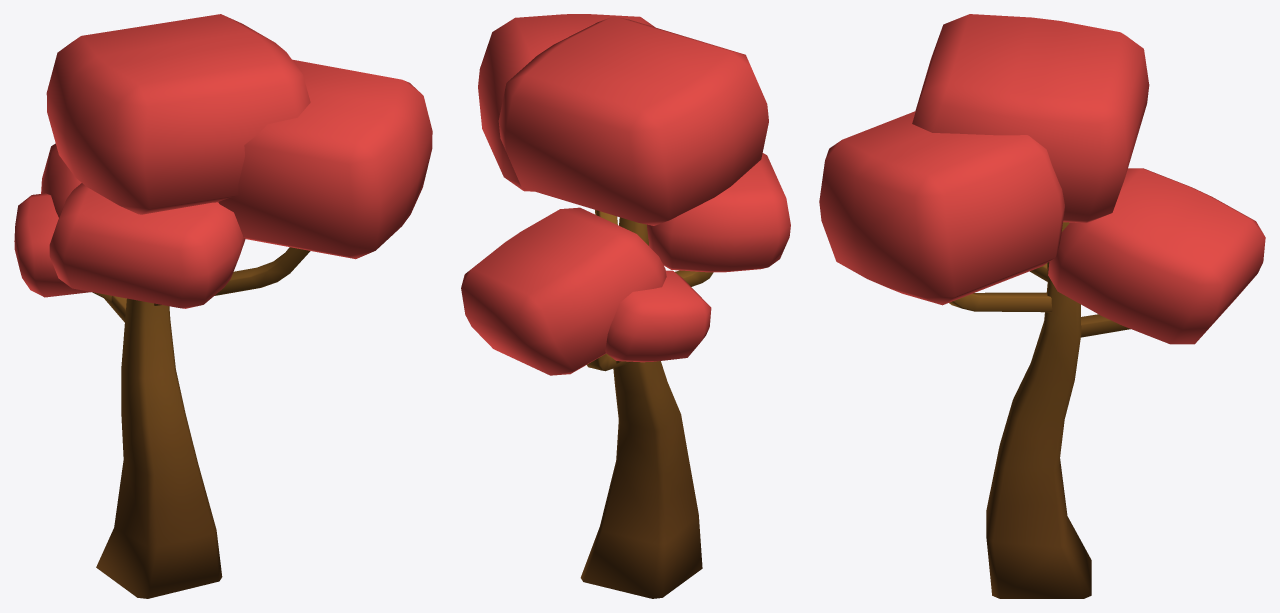
The model's file is Tree_1_2.obj.
The picture shows the model from 3 angles, left to right: view 1: azimuth 30°, elevation 25°; view 2: azimuth 150°, elevation 25°; view 3: azimuth 270°, elevation 25°; orthographic projection. The views are drawn at different scales.
Visible parts, largest first — view 1: Tree_1_2; view 2: Tree_1_2; view 3: Tree_1_2.
Boxes of the visible parts, <box> form: Tree_1_2: <box>14,14,432,598</box>; Tree_1_2: <box>461,14,790,598</box>; Tree_1_2: <box>819,14,1265,598</box>.
Bounding box in the file's own units: 2.51 × 3.71 × 2.8.
